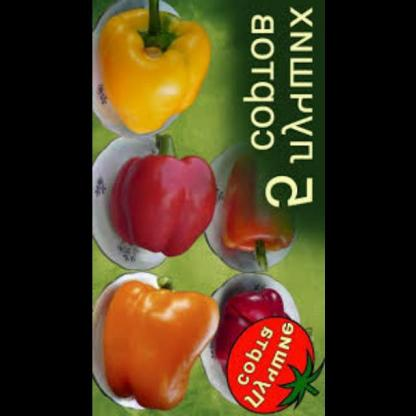bell pepper: (100, 275, 217, 409), (97, 5, 215, 137), (109, 144, 222, 257), (216, 156, 294, 267), (228, 282, 296, 352)
